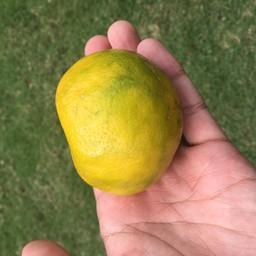Good_orange: (54, 48, 184, 197)
